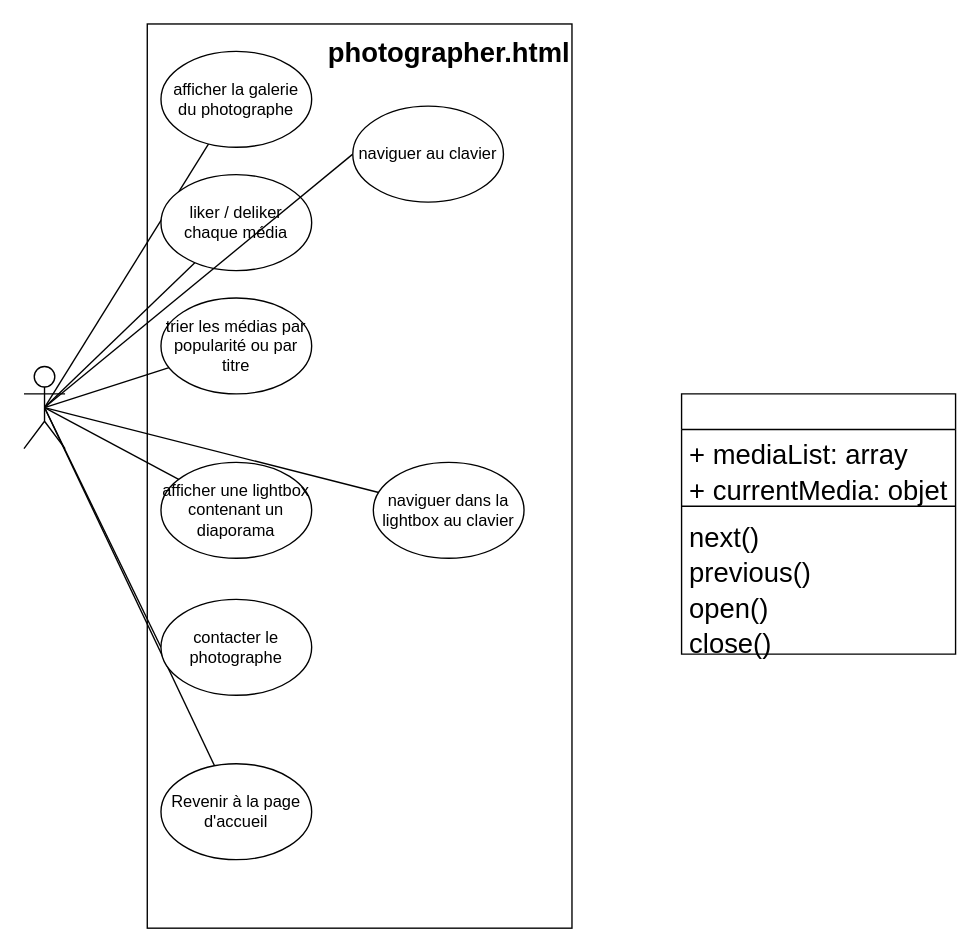
Some shapes in this 980 by 952 pixel diagram are drawn without their labels. Here are the shapes that lost their labels. From the top down, the box of each, then its label:
(23, 365, 65, 449): Actor
(680, 393, 956, 654): LightBox
